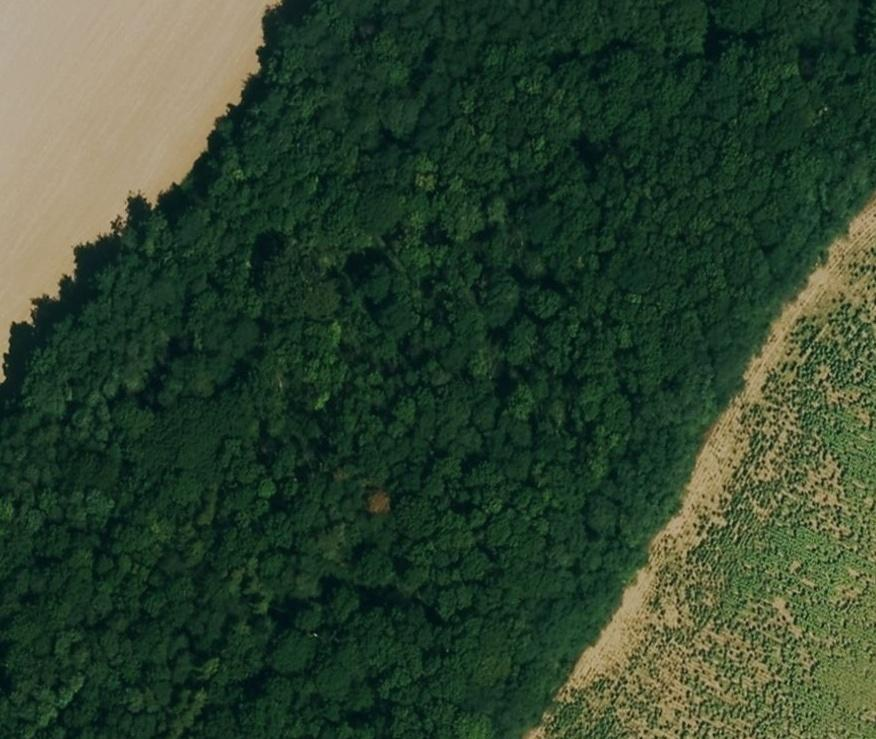field: (530, 195, 876, 737), (0, 0, 275, 362)
forest: (0, 2, 876, 737)
